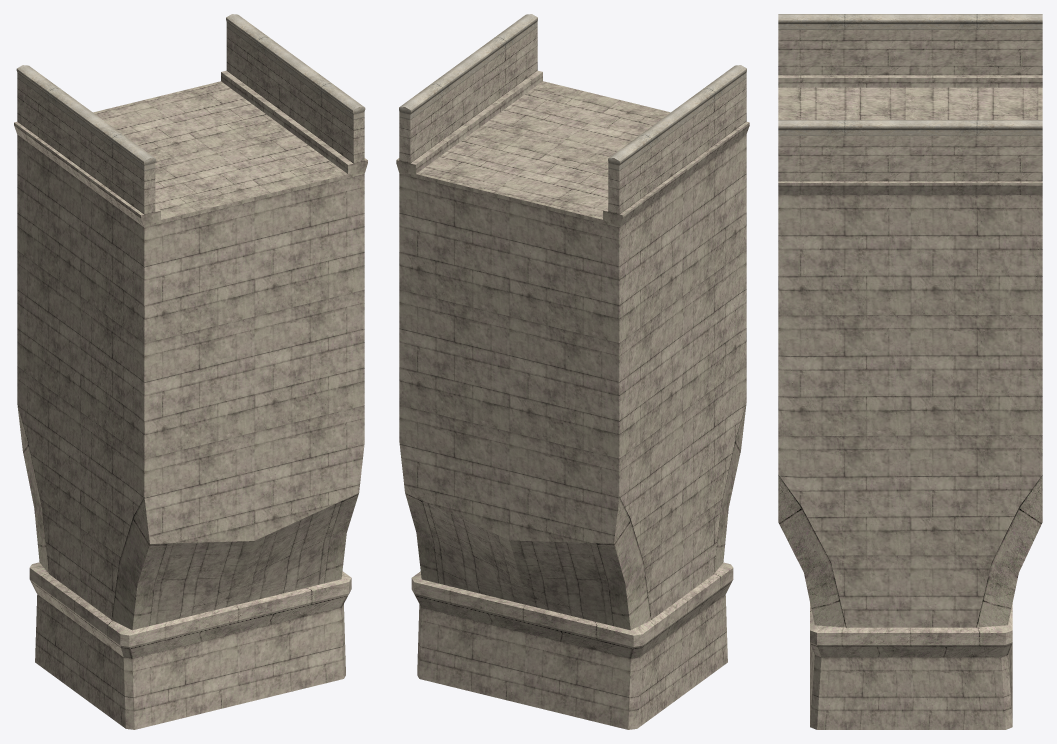
File: SupportMarble.dae
3 renders of one model, left to right at view 1: azimuth 30°, elevation 25°; view 2: azimuth 150°, elevation 25°; view 3: azimuth 270°, elevation 25°, orthographic. The views are drawn at different scales.
Parts seen in each view (by area): view 1: SupportMarble; view 2: SupportMarble; view 3: SupportMarble.
Part boxes in pixels (x1,y1,x2,y2): SupportMarble: [14, 14, 367, 729]; SupportMarble: [396, 14, 749, 729]; SupportMarble: [778, 14, 1042, 729].
Bounding box in the file's own units: 4.2 × 10.12 × 4.
2 materials, 2 textured.
